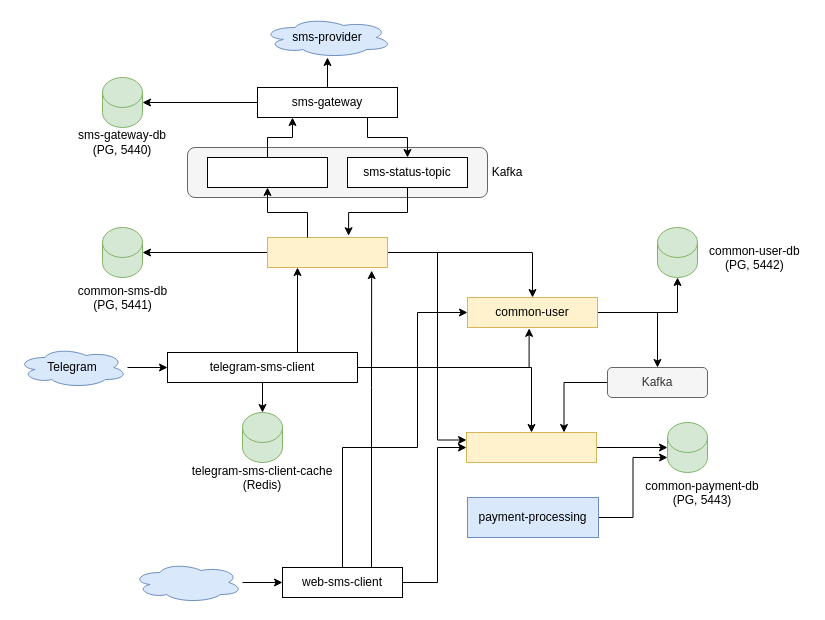
Some shapes in this 825 by 620 pixel diagram are drawn without their labels. The box of each missing label's shape, as (x1, y1, x2, y2) in pixels:
common-payment: (466, 432, 596, 462)
common-sms: (266, 236, 388, 268)
sms-send-topic: (206, 156, 328, 188)
Web: (132, 562, 242, 602)
